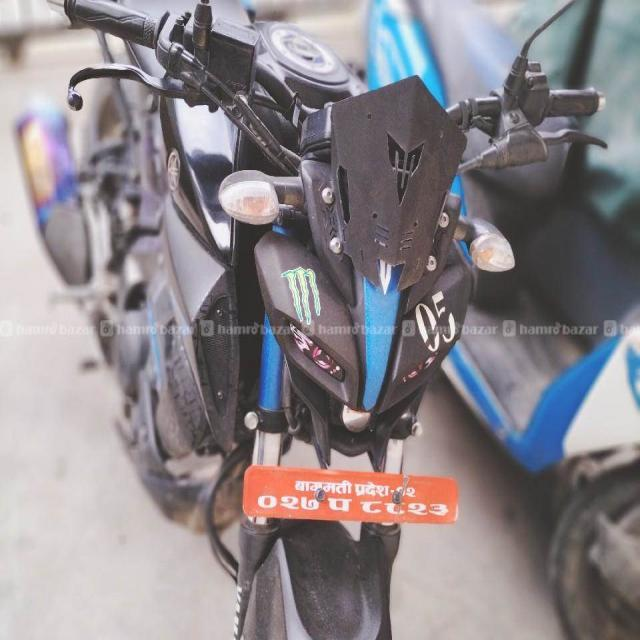License-plate: (242, 460, 462, 532)
